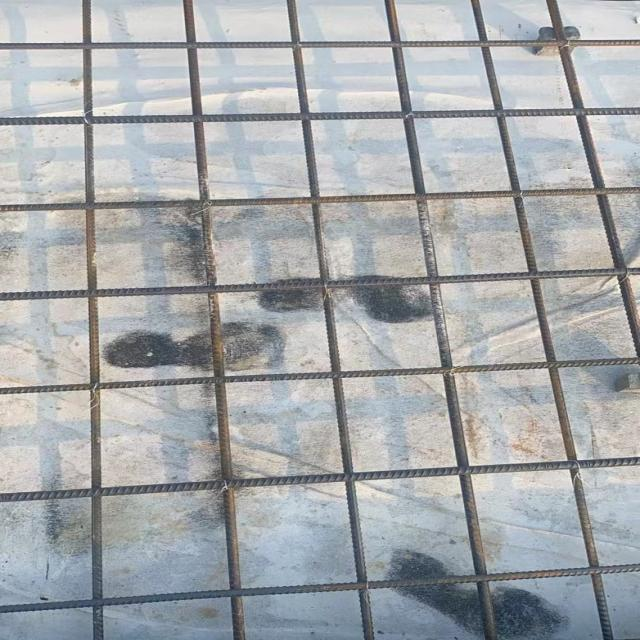ribbed bar: (472, 0, 615, 639), (382, 0, 500, 638), (285, 0, 377, 639), (180, 0, 246, 638), (544, 0, 638, 354), (0, 562, 638, 611), (0, 456, 638, 503), (0, 355, 638, 394), (0, 265, 638, 300), (0, 184, 638, 210), (79, 0, 104, 638), (0, 106, 638, 125), (0, 38, 638, 49)
